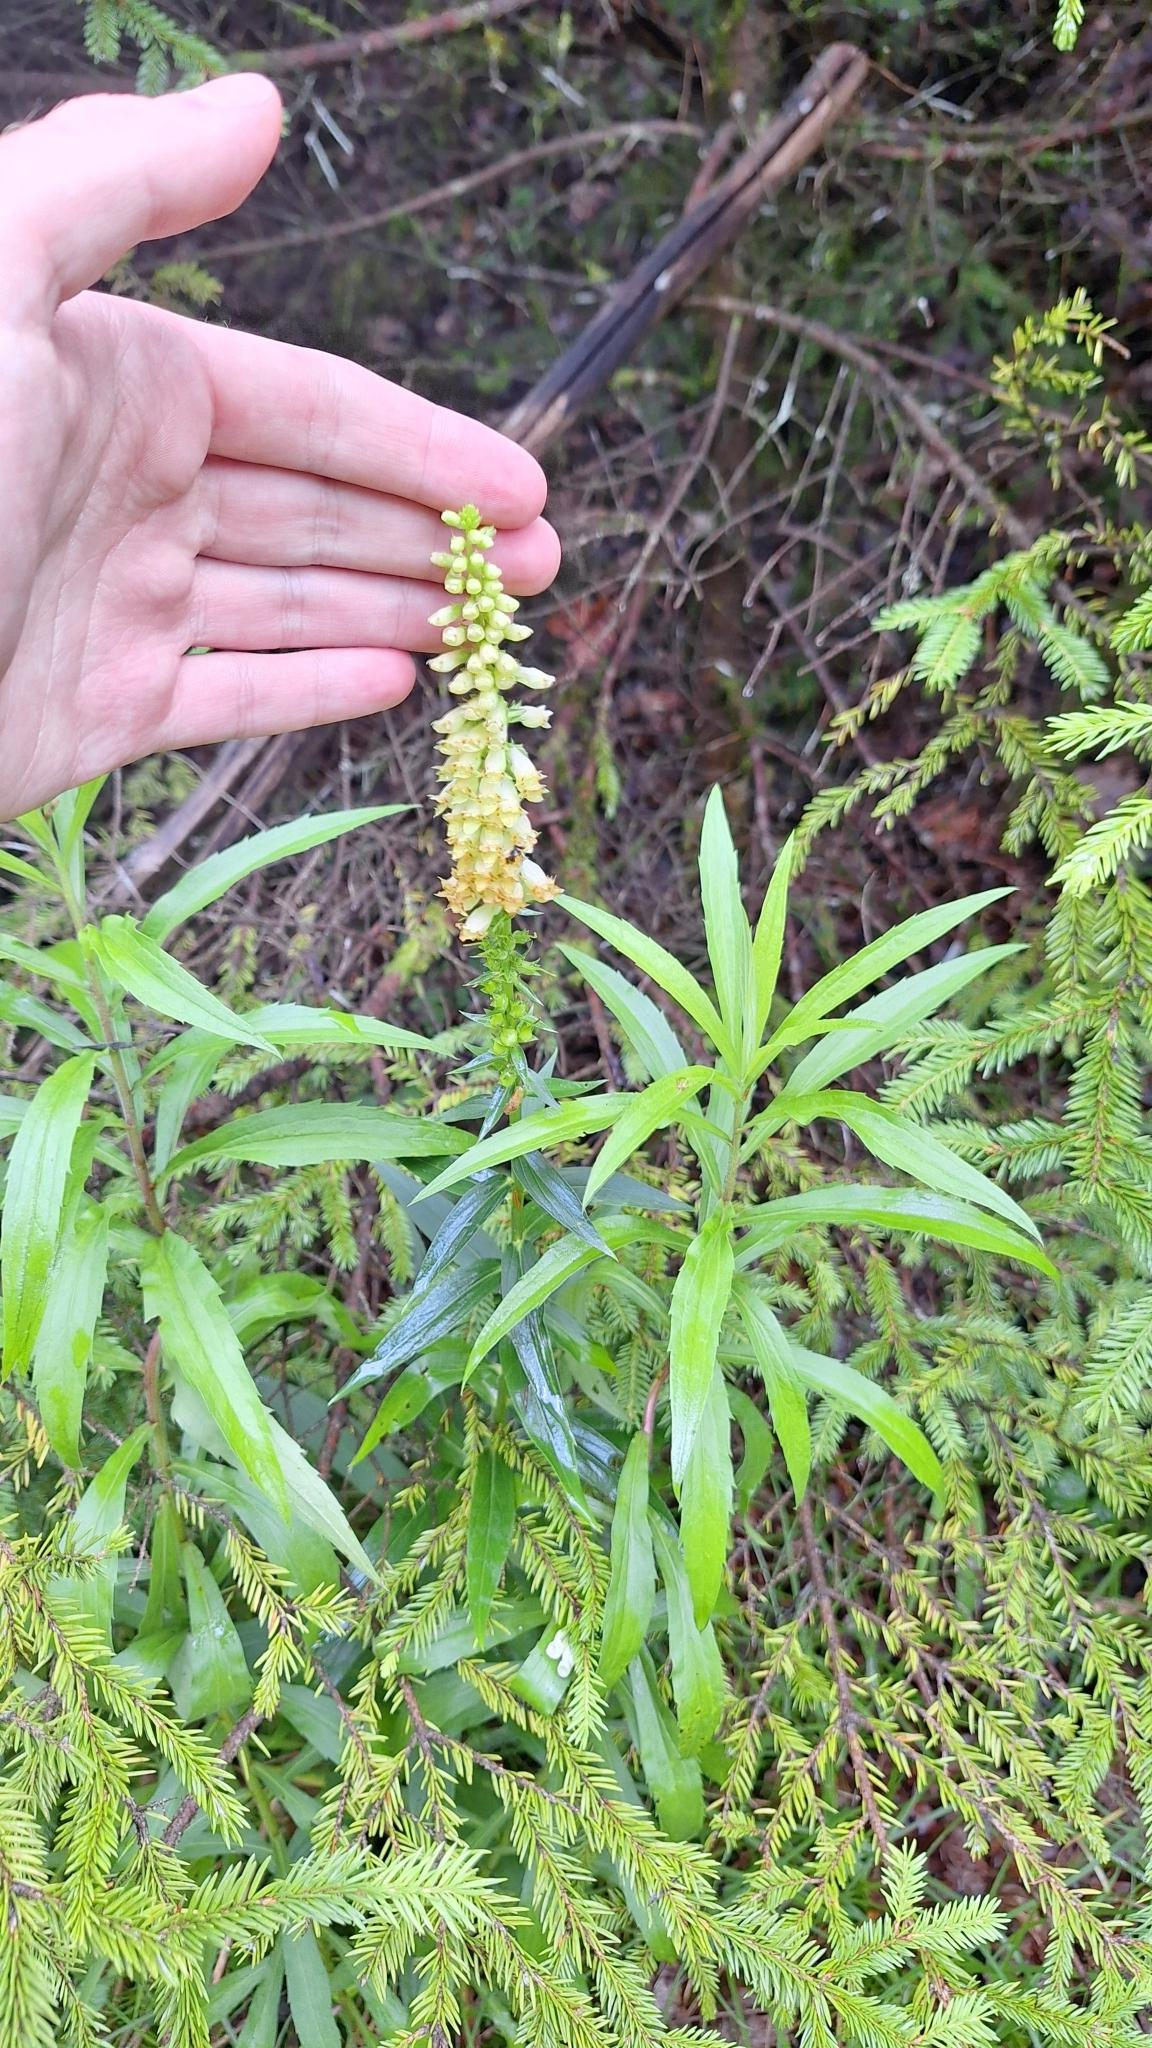Digitalis L: (428, 506, 584, 1578)
